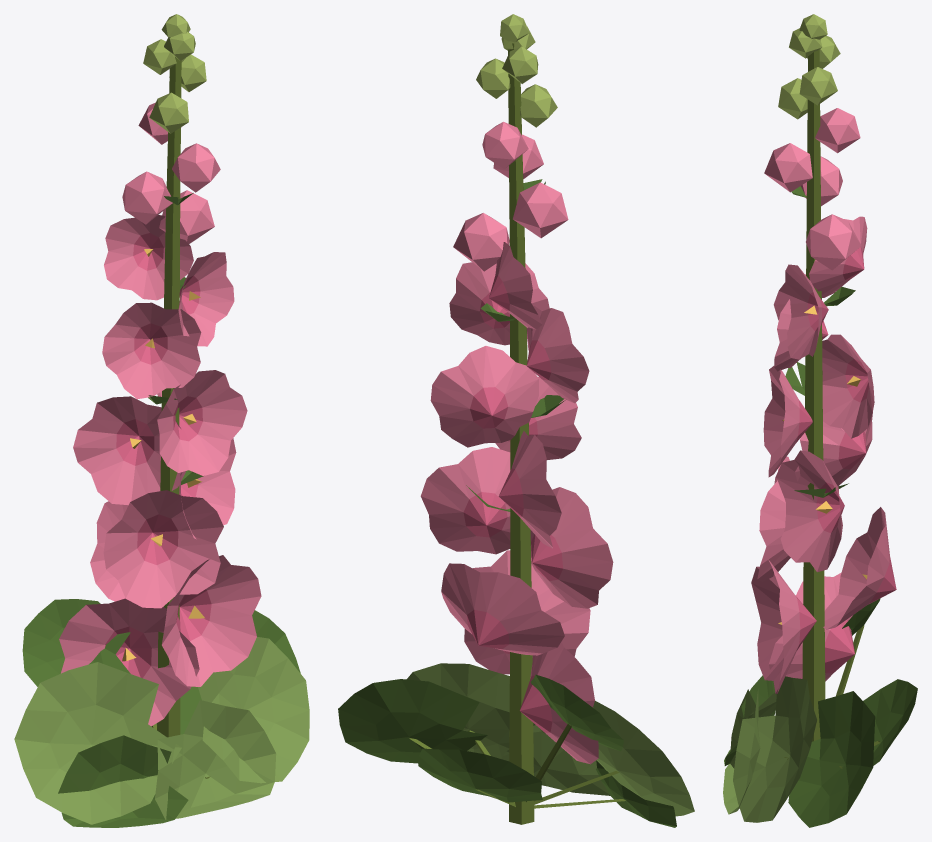
3 renders of one model, left to right at view 1: azimuth 30°, elevation 25°; view 2: azimuth 150°, elevation 25°; view 3: azimuth 270°, elevation 25°, orthographic. The views are drawn at different scales.
Parts seen in each view (by area): view 1: blooms, leaves_pale, leaves, throats, stalk, buds, centres; view 2: blooms, leaves, leaves_pale, stalk, throats, buds; view 3: blooms, leaves, leaves_pale, stalk, throats, buds.
Part boxes in pixels (x1,y1,x2,y2): blooms: (59,102,261,726); leaves_pale: (14,637,309,824); leaves: (22,193,300,827); throats: (105,233,211,678); stalk: (151,57,210,778); buds: (143,14,206,133); centres: (122,249,204,661); blooms: (420,121,613,764); leaves: (338,179,676,827); leaves_pale: (406,663,694,816); stalk: (409,43,625,824); throats: (463,275,562,732); buds: (476,14,557,127); blooms: (751,108,889,693); leaves: (724,186,917,827); leaves_pale: (723,676,816,822); stalk: (784,49,880,768); throats: (795,247,896,673); buds: (778,14,840,119).
Size of the model in its own units: 0.6043 by 1.45 by 0.3292.
